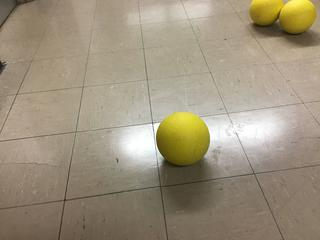power_cell: (155, 112, 209, 165), (282, 1, 315, 32), (249, 1, 280, 25)
